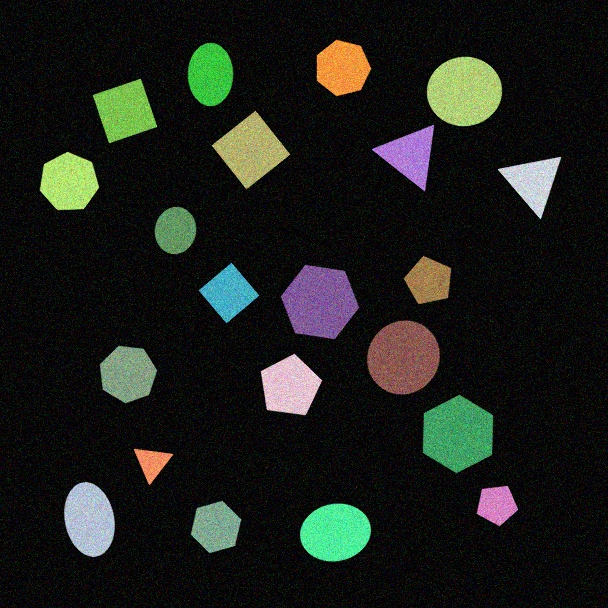Circulo: (366, 320, 441, 395), (426, 56, 503, 127), (154, 206, 197, 255)
Elipse: (299, 503, 372, 562), (63, 481, 116, 558), (187, 42, 234, 107)
Heptagono: (39, 151, 100, 211), (99, 345, 158, 404), (316, 39, 372, 97)
Hexagono: (280, 264, 360, 340), (422, 394, 494, 474), (190, 500, 242, 554)
Pentagono: (260, 353, 323, 416), (403, 255, 452, 305), (476, 485, 519, 527)
Quadrado: (211, 110, 291, 190), (92, 78, 158, 144), (198, 262, 260, 324)
Triangulo: (372, 124, 435, 192), (497, 156, 562, 220), (133, 448, 174, 486)
